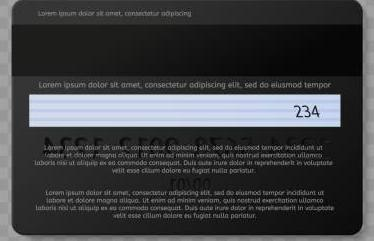payment_card: (12, 0, 364, 233)
